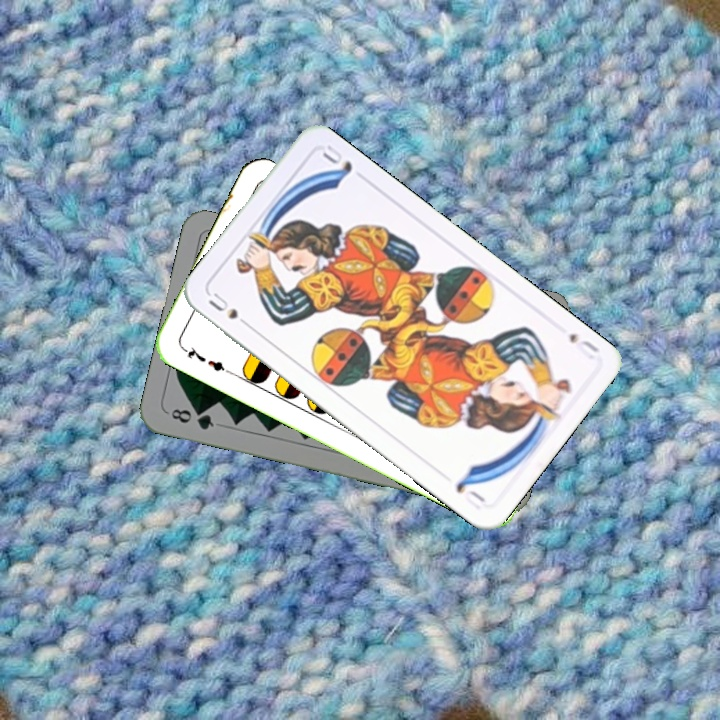E7: (178, 342, 233, 376)
G8: (167, 404, 217, 433)
SU: (204, 288, 255, 331), (565, 329, 603, 363)
